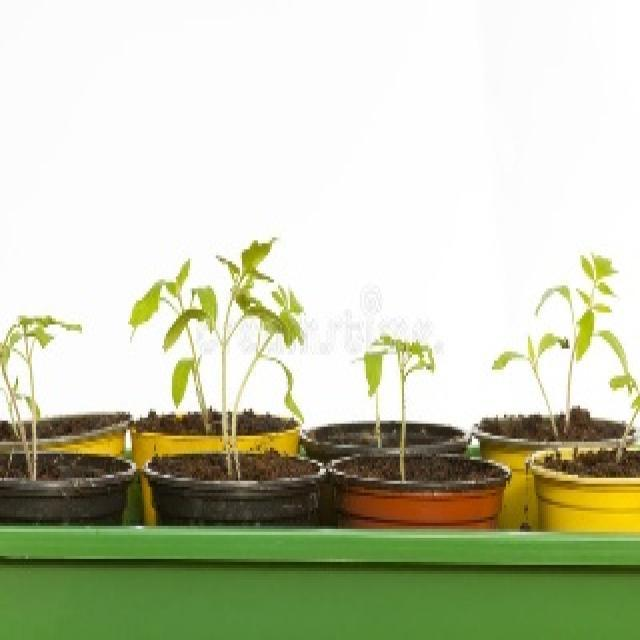tomato: (130, 240, 304, 479), (494, 255, 640, 451), (0, 315, 79, 479), (362, 334, 436, 479)
